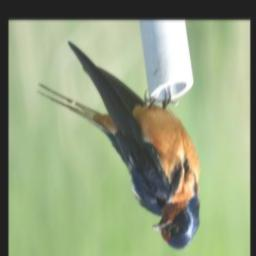Swallow: (37, 45, 202, 254)
